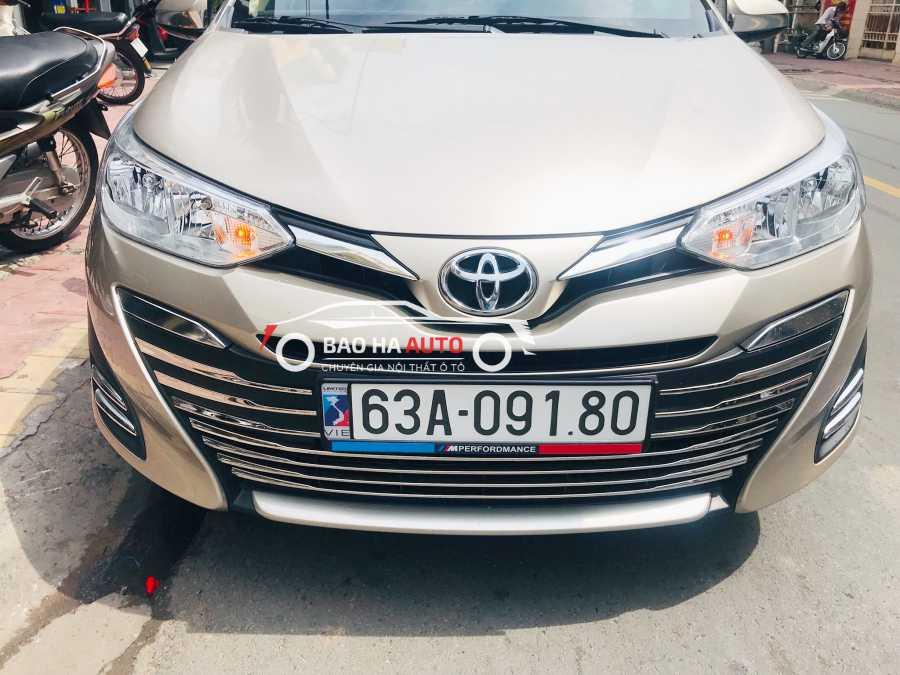numplate: (312, 375, 659, 460)
